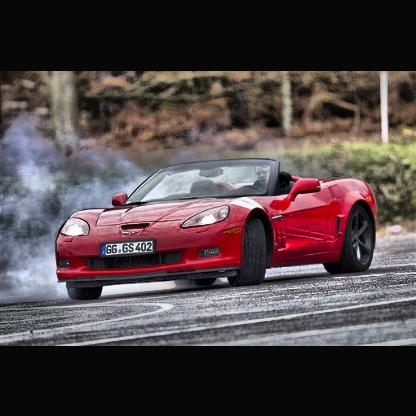Chevrolet Corvette Convertible 2012: (58, 160, 377, 302)
